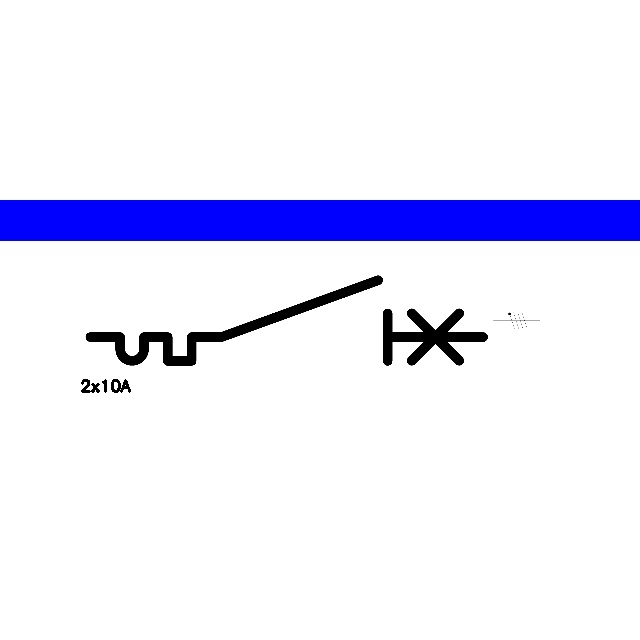interruptor_termomagnetico: (80, 270, 493, 371)
